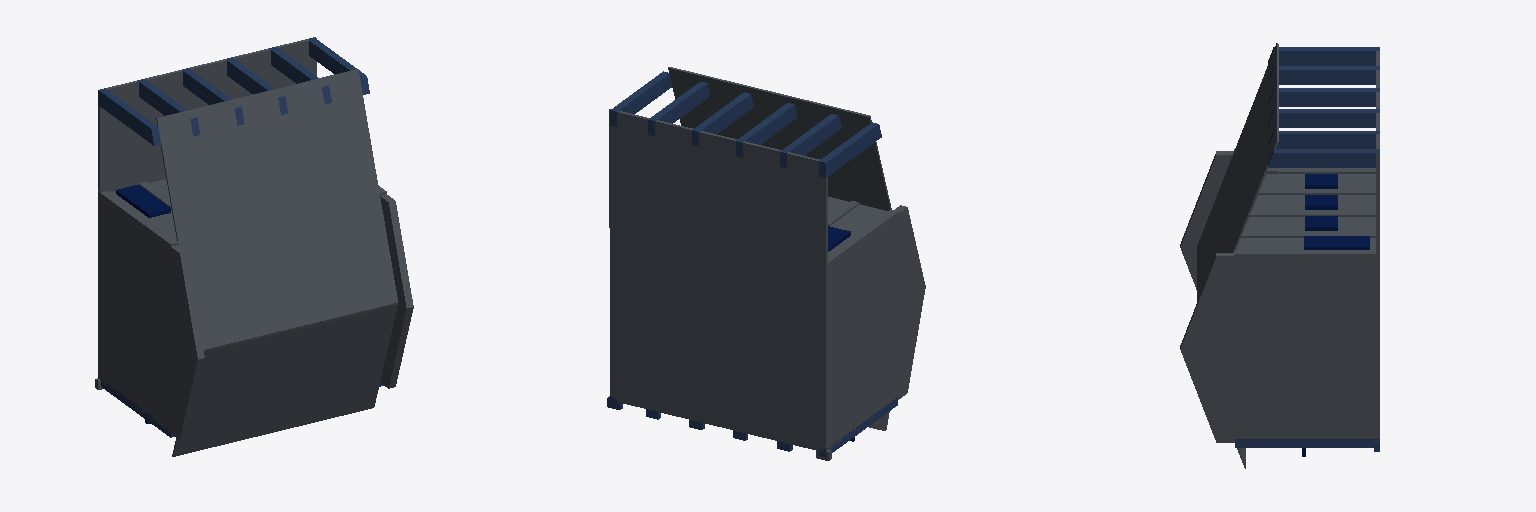
The model's file is music.obj.
The picture shows the model from 3 angles: view 1: azimuth 30°, elevation 25°; view 2: azimuth 150°, elevation 25°; view 3: azimuth 270°, elevation 25°; orthographic projection.
Visible parts, largest first — view 1: roof_000_roof.000, main_block, roof_003_roof.003, Cube_Cube_003_Cube_Cube.003, slim_017_slim.017, slim_007_slim.007, slim_015_slim.015, slim_016_slim.016, slim_013_slim.013, door2, slim_012_slim.012; view 2: main_block, Cube_Cube_003_Cube_Cube.003, roof_000_roof.000, slim_017_slim.017, slim_007_slim.007, slim_012_slim.012, slim_013_slim.013, slim_015_slim.015, slim_016_slim.016, slim_005_slim.005; view 3: main_block, roof_000_roof.000, slim_007_slim.007, slim_017_slim.017, slim_016_slim.016, slim_015_slim.015, slim_013_slim.013, slim_012_slim.012, slim, door1, Cube_Cube_003_Cube_Cube.003.
Part boxes in pixels (left/top/right/bottom): roof_000_roof.000: left=156, top=69, right=397, bottom=351; main_block: left=98, top=179, right=413, bottom=439; roof_003_roof.003: left=172, top=305, right=397, bottom=456; Cube_Cube_003_Cube_Cube.003: left=98, top=37, right=316, bottom=192; slim_017_slim.017: left=98, top=88, right=160, bottom=145; slim_007_slim.007: left=308, top=37, right=369, bottom=94; slim_015_slim.015: left=182, top=68, right=244, bottom=125; slim_016_slim.016: left=137, top=79, right=199, bottom=136; slim_013_slim.013: left=226, top=57, right=287, bottom=114; door2: left=116, top=185, right=170, bottom=217; slim_012_slim.012: left=269, top=47, right=331, bottom=103; main_block: left=610, top=197, right=925, bottom=452; Cube_Cube_003_Cube_Cube.003: left=609, top=109, right=827, bottom=264; roof_000_roof.000: left=668, top=67, right=891, bottom=210; slim_017_slim.017: left=819, top=122, right=881, bottom=177; slim_007_slim.007: left=610, top=71, right=671, bottom=126; slim_012_slim.012: left=648, top=82, right=709, bottom=135; slim_013_slim.013: left=692, top=92, right=753, bottom=146; slim_015_slim.015: left=736, top=103, right=797, bottom=157; slim_016_slim.016: left=780, top=114, right=841, bottom=167; slim_005_slim.005: left=819, top=397, right=897, bottom=457; main_block: left=1180, top=149, right=1379, bottom=442; roof_000_roof.000: left=1197, top=43, right=1278, bottom=301; slim_007_slim.007: left=1268, top=149, right=1379, bottom=167; slim_017_slim.017: left=1268, top=47, right=1379, bottom=65; slim_016_slim.016: left=1268, top=66, right=1379, bottom=84; slim_015_slim.015: left=1268, top=88, right=1379, bottom=106; slim_013_slim.013: left=1268, top=109, right=1379, bottom=127; slim_012_slim.012: left=1268, top=131, right=1379, bottom=148; slim: left=1235, top=439, right=1379, bottom=447; door1: left=1304, top=236, right=1369, bottom=249; Cube_Cube_003_Cube_Cube.003: left=1376, top=51, right=1379, bottom=270.
Bounding box in the file's own units: 1.09 × 1.53 × 0.8477.